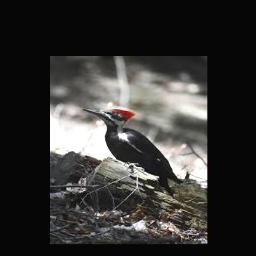Woodpecker: (83, 107, 183, 193)
